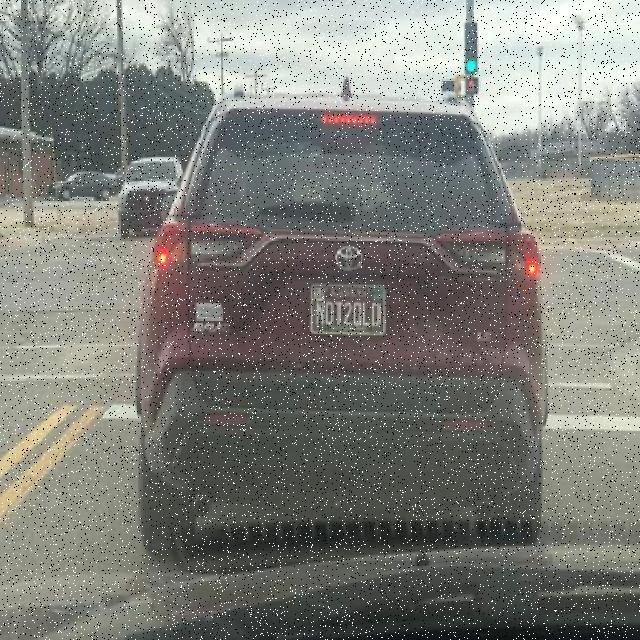licenseplate: (310, 283, 386, 335)
